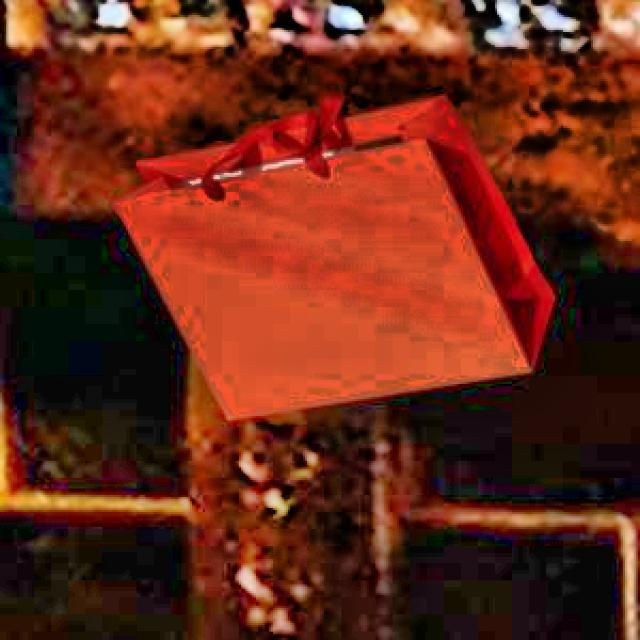Paper-bag: (112, 83, 566, 440)
